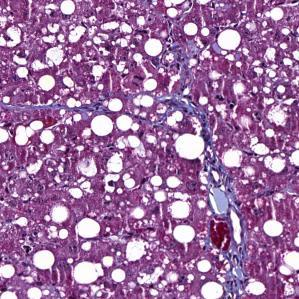fibrosis: (196, 167, 242, 249)
